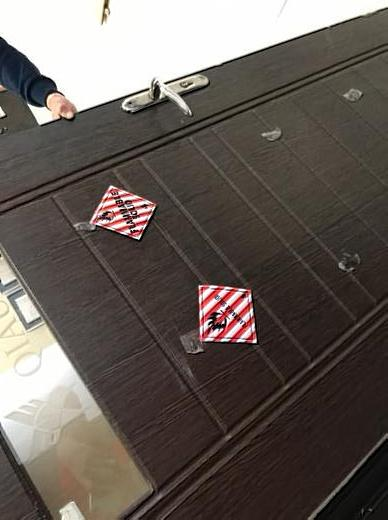flammable-solid: (89, 182, 159, 241), (197, 285, 261, 346)
